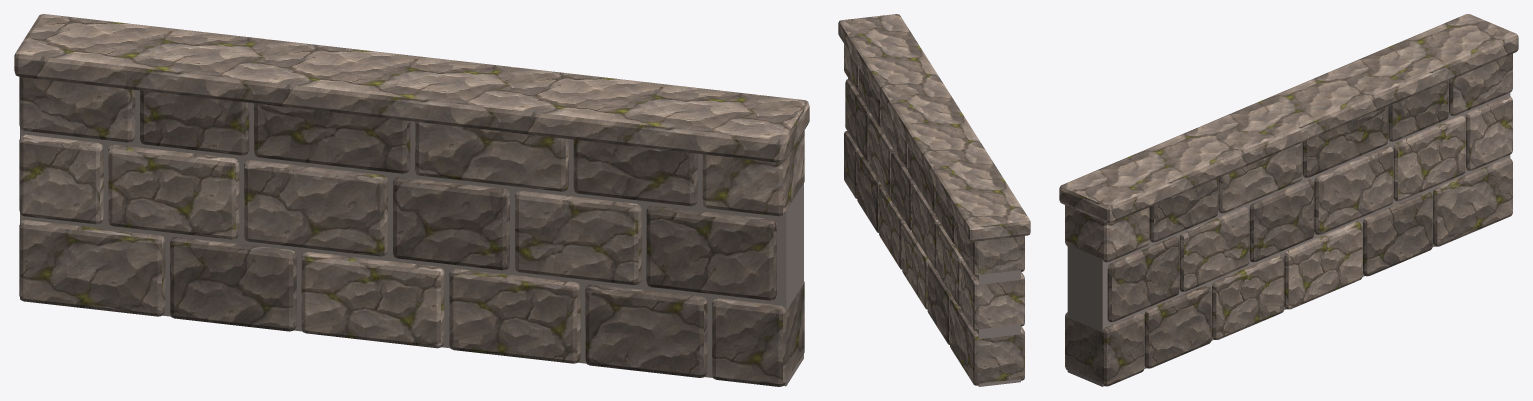
The model's file is half_wall_diagonal__cut_stone.glb.
3 views of the same model, side by side, from view 1: azimuth 30°, elevation 25°; view 2: azimuth 150°, elevation 25°; view 3: azimuth 270°, elevation 25° (orthographic). The views are drawn at different scales.
Parts seen in each view (by area): view 1: model; view 2: model; view 3: model.
Part boxes in pixels (bbox=[...]): model: bbox=[14, 14, 809, 386]; model: bbox=[838, 14, 1030, 386]; model: bbox=[1059, 14, 1518, 386].
Size of the model in its own units: 2.24 by 0.99 by 2.24.
4 materials, 3 textured.
